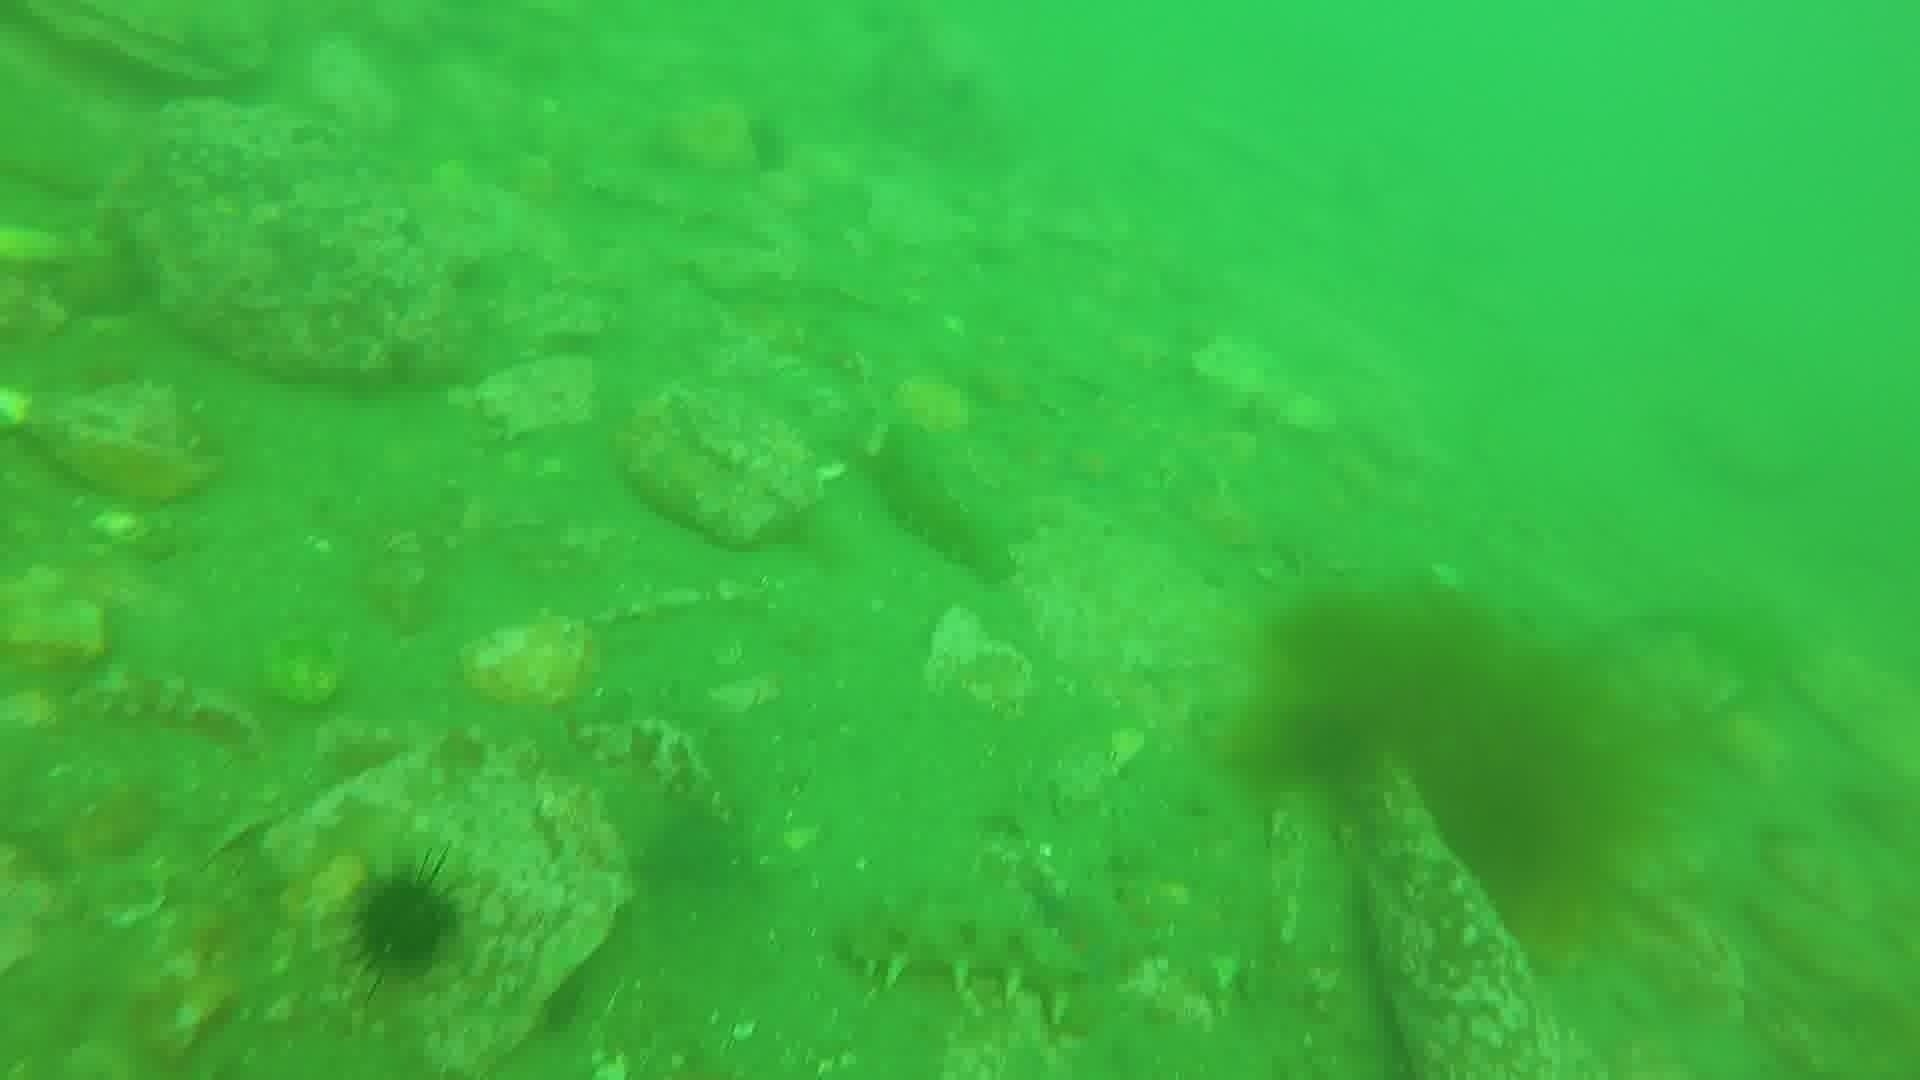echinus: (342, 858, 467, 984), (1269, 700, 1383, 798)
holothurian: (832, 887, 1095, 1021), (866, 422, 1025, 584), (75, 659, 266, 744)
